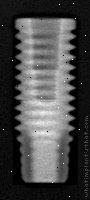Neodent: (10, 16, 78, 185)
